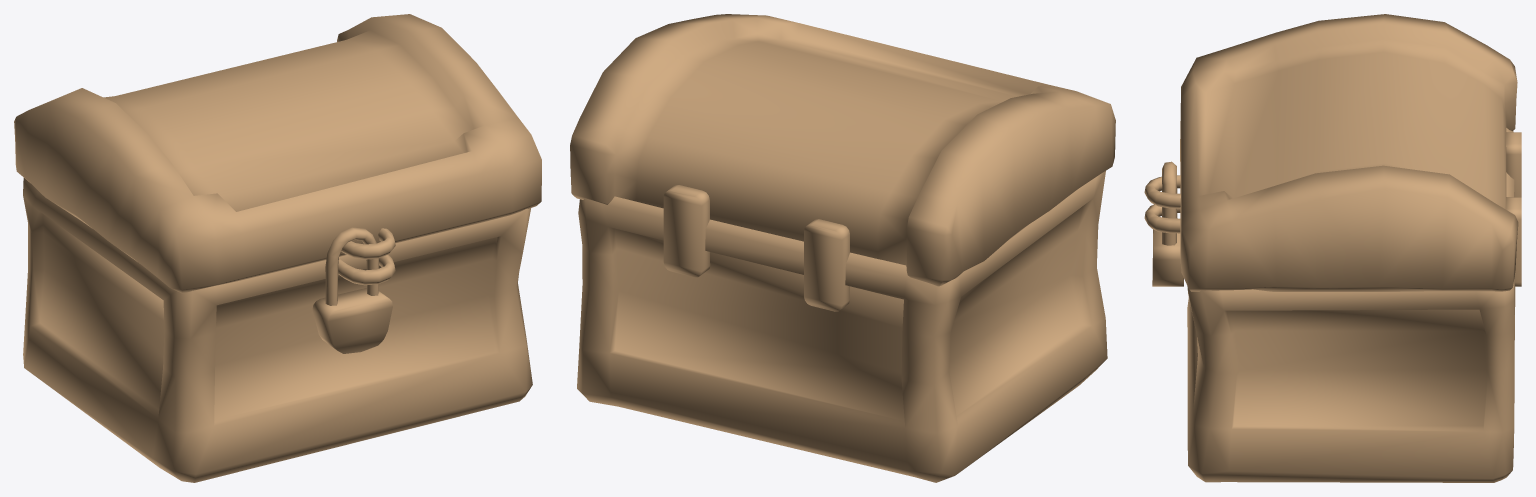
File: SM_Stylized_Chest.glb
3 views of the same model, side by side, from view 1: azimuth 30°, elevation 25°; view 2: azimuth 150°, elevation 25°; view 3: azimuth 270°, elevation 25° (orthographic). The views are drawn at different scales.
Visible parts, largest first — view 1: SM_Stylized_Chest; view 2: SM_Stylized_Chest; view 3: SM_Stylized_Chest.
Boxes of the visible parts, box(x1,y1,x2,y2) form: SM_Stylized_Chest: box(14, 14, 541, 482); SM_Stylized_Chest: box(570, 14, 1115, 482); SM_Stylized_Chest: box(1144, 14, 1521, 482).
Bounding box in the file's own units: 0.8083 × 0.6432 × 0.7238.
